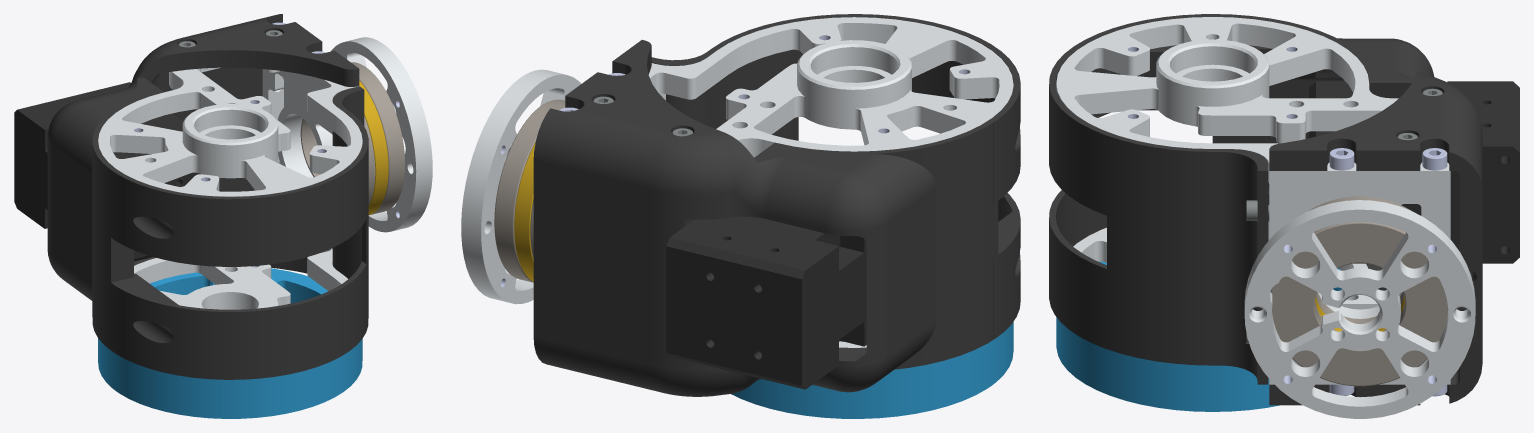
The model's file is elbow_link.dae.
3 views of the same model, side by side, from view 1: azimuth 30°, elevation 25°; view 2: azimuth 150°, elevation 25°; view 3: azimuth 270°, elevation 25° (orthographic). The views are drawn at different scales.
Visible parts, largest first — view 1: Body_24, Body_23, _3DGeom-104, Body_10, _3DGeom-458, _3DGeom-270, Body_7, _3DGeom-166, _3DGeom-294, _3DGeom-283, _3DGeom-304; view 2: Body_23, _3DGeom-104, Body_7, Body_24, Body_10, _3DGeom-458, _3DGeom-294, _3DGeom-283; view 3: Body_24, _3DGeom-104, _3DGeom-458, Body_23, _3DGeom-294, Body_10, Body_7, _3DGeom-166, _3DGeom-270, _3DGeom-304, Body_17, Body_15.
Part boxes in pixels (<box>): Body_24: <box>107,86,368,379</box>; Body_23: <box>47,14,359,350</box>; _3DGeom-104: <box>98,67,362,196</box>; Body_10: <box>98,268,362,418</box>; _3DGeom-458: <box>331,37,432,232</box>; _3DGeom-270: <box>134,248,347,309</box>; Body_7: <box>14,82,200,261</box>; _3DGeom-166: <box>262,69,332,248</box>; _3DGeom-294: <box>351,62,404,214</box>; _3DGeom-283: <box>359,80,388,215</box>; _3DGeom-304: <box>300,118,374,204</box>; Body_23: <box>533,40,998,396</box>; _3DGeom-104: <box>648,17,1013,157</box>; Body_7: <box>666,216,866,389</box>; Body_24: <box>651,14,1020,339</box>; Body_10: <box>731,322,1013,418</box>; _3DGeom-458: <box>461,69,581,304</box>; _3DGeom-294: <box>494,99,565,282</box>; _3DGeom-283: <box>514,142,535,281</box>; Body_24: <box>1049,14,1268,384</box>; _3DGeom-104: <box>1056,17,1450,191</box>; _3DGeom-458: <box>1244,200,1475,418</box>; Body_23: <box>1212,14,1482,405</box>; _3DGeom-294: <box>1270,222,1448,386</box>; Body_10: <box>1056,261,1342,411</box>; Body_7: <box>1309,81,1519,263</box>; _3DGeom-166: <box>1269,191,1450,364</box>; _3DGeom-270: <box>1073,221,1450,384</box>; _3DGeom-304: <box>1309,196,1410,323</box>; Body_17: <box>1422,148,1447,170</box>; Body_15: <box>1329,148,1354,170</box>.
Size of the model in its own units: 0.101 by 0.1039 by 0.069.
